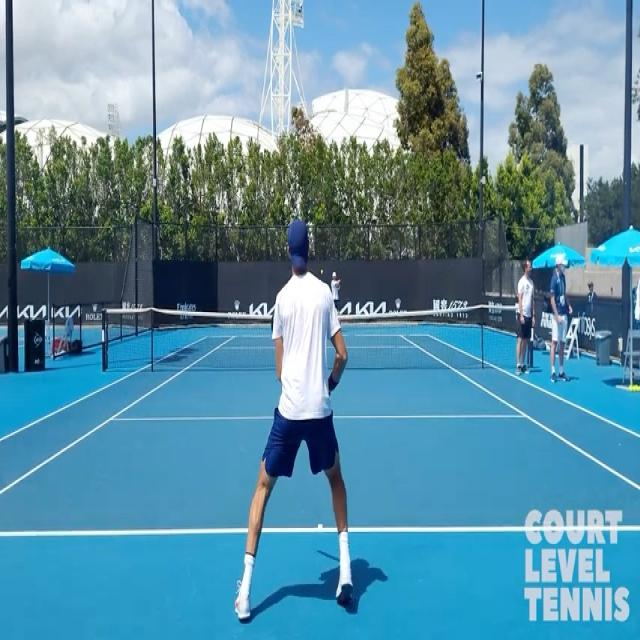ready-position: (240, 210, 366, 616)
